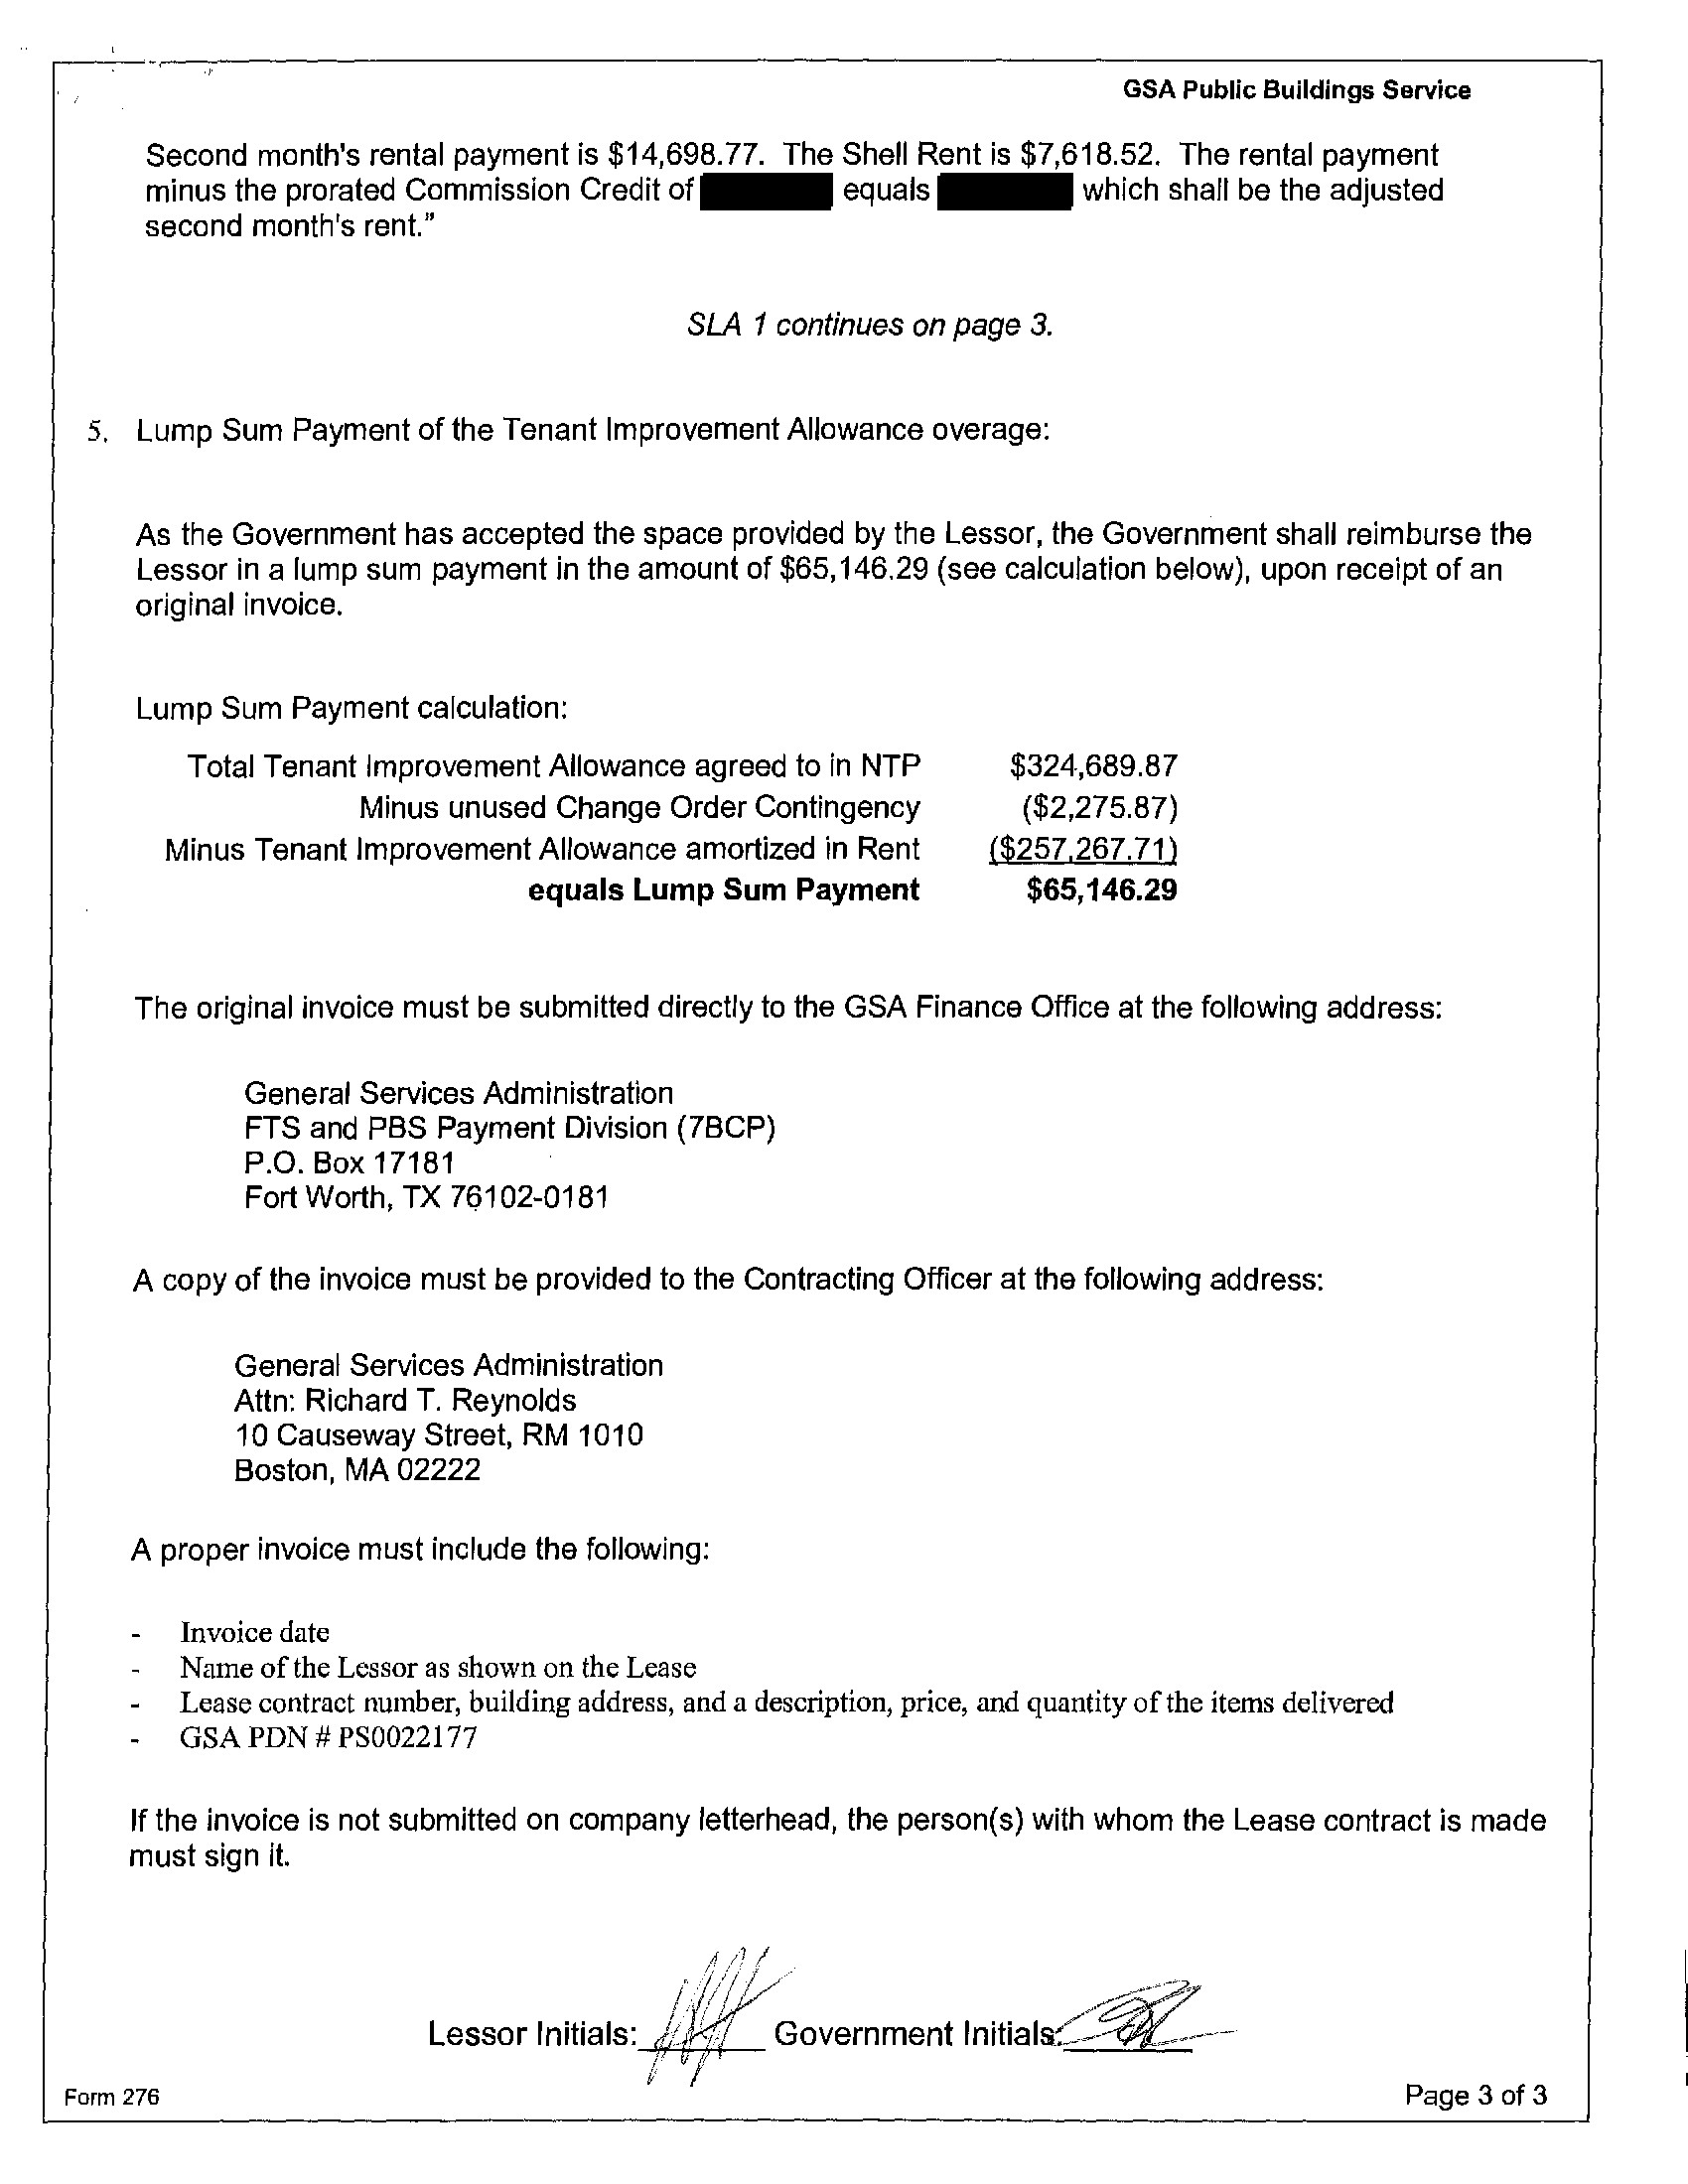handwritten: (642, 1925, 771, 2092), (1062, 1957, 1248, 2072)
